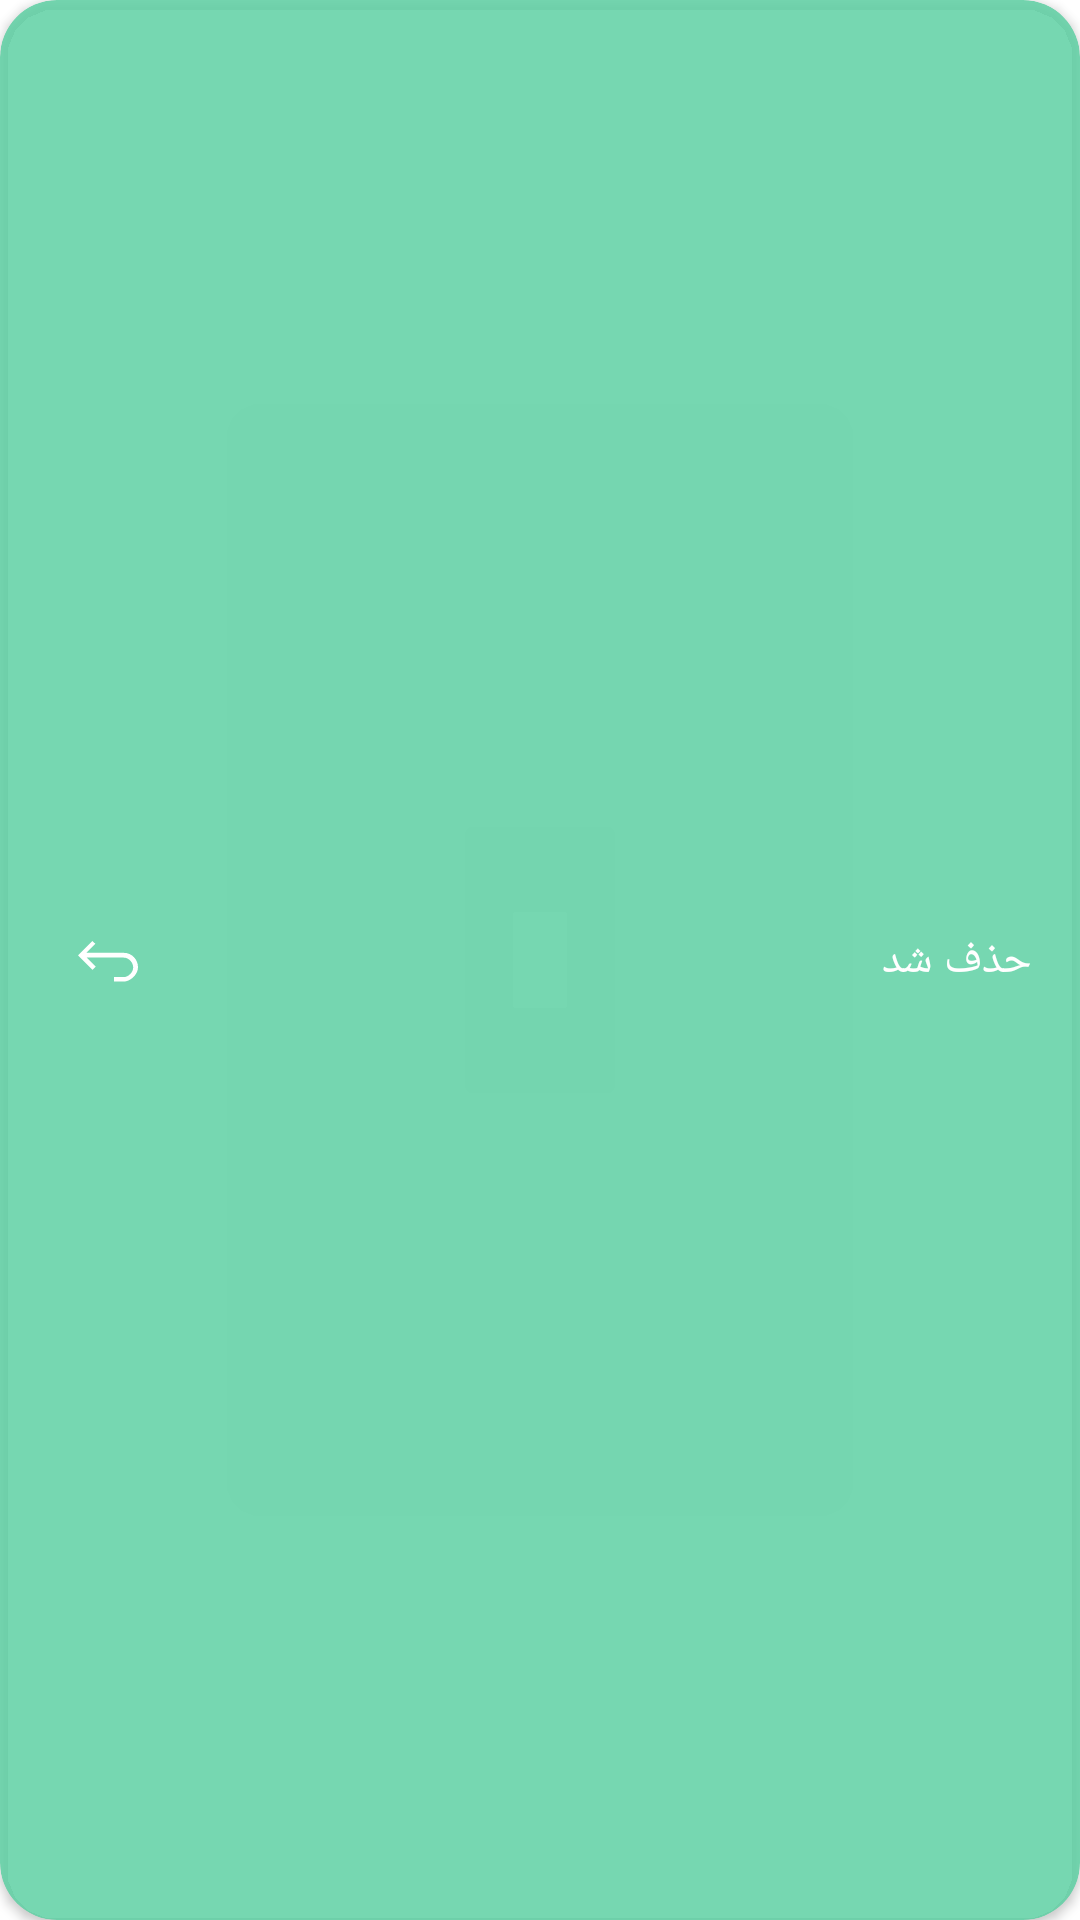

Icons on this 1080px x 1920px Android screen, each with its box as (x1, y1, x2, y2):
undo: (78, 941, 138, 982)
